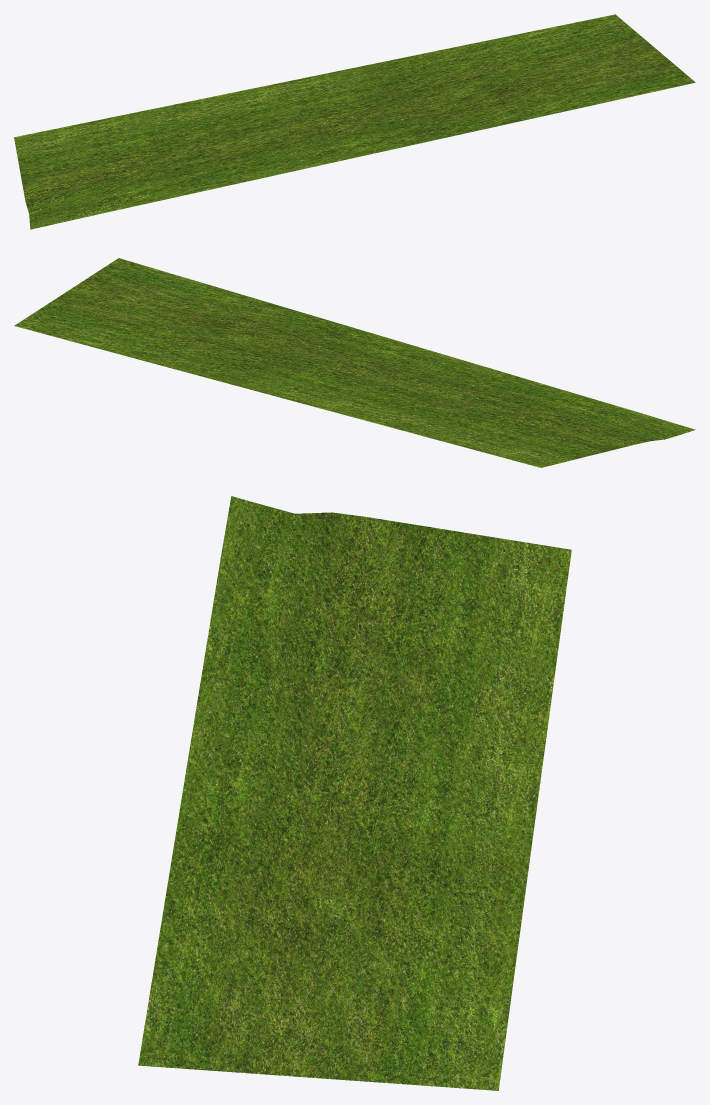
Rendered from grass.obj.
The picture shows the model from 3 angles, top to bottom: view 1: azimuth 30°, elevation 25°; view 2: azimuth 150°, elevation 25°; view 3: azimuth 270°, elevation 25°; orthographic projection. The views are drawn at different scales.
Visible parts, largest first — view 1: grass_Plane; view 2: grass_Plane; view 3: grass_Plane.
Boxes of the visible parts, <box> form: grass_Plane: <box>14,14,695,229</box>; grass_Plane: <box>14,258,695,467</box>; grass_Plane: <box>138,496,571,1090</box>.
Size of the model in its own units: 142 by 2.18 by 43.45.
1 material, 1 textured.
